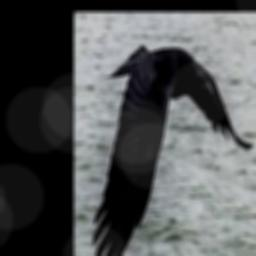Crow: (92, 42, 253, 256)
